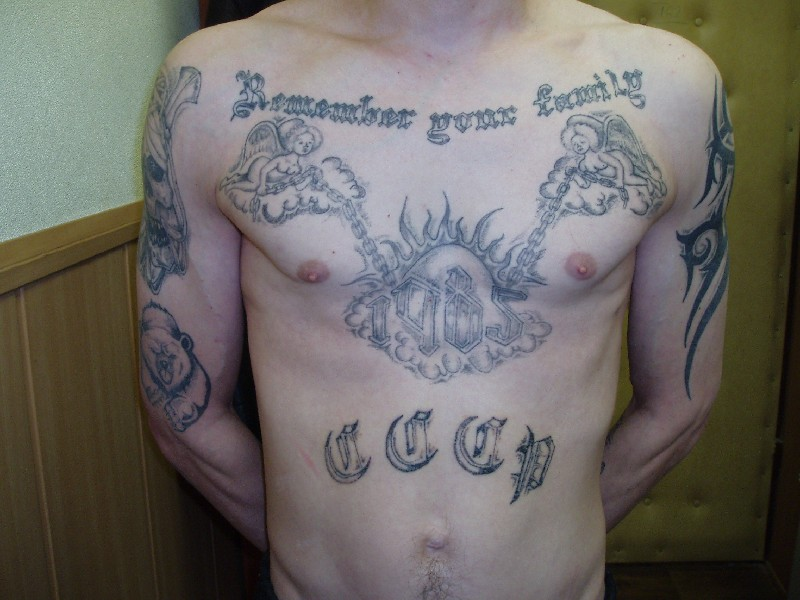tatu1_angel: (213, 117, 369, 228), (537, 111, 665, 223)
tatu3_bukva: (228, 61, 665, 143), (316, 406, 560, 507)
